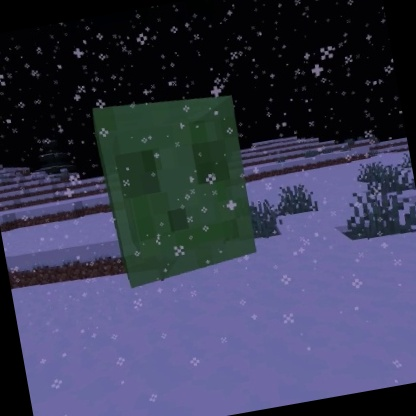slime: (86, 79, 266, 294)
